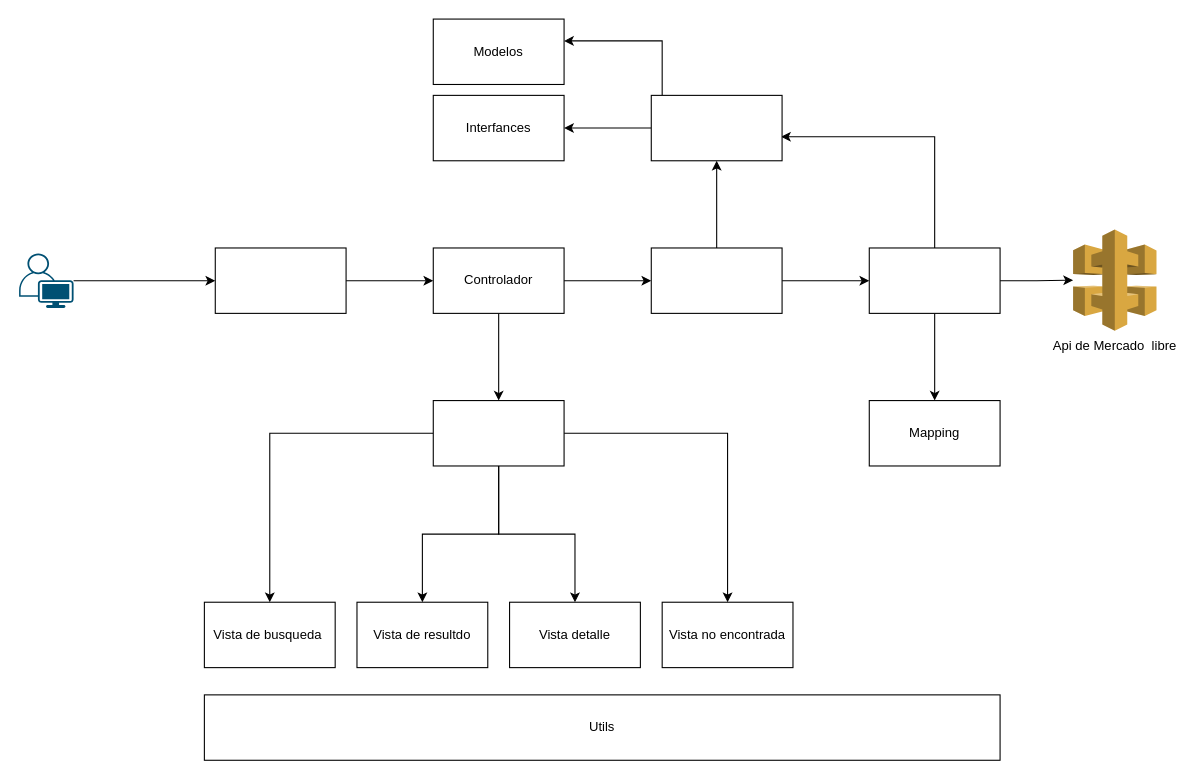
Image size: 1195x779. Some labels were removed from this diagram. Here are the shapes that lost their labels. From the top down, the centre of each, then its label:
At point (716, 127): "Entidades".
At point (280, 280): "Services".
At point (716, 280): "Aplicacion (logica del negocio)".
At point (934, 280): "Repositorio".
At point (498, 432): "Constructor de Vistas".
